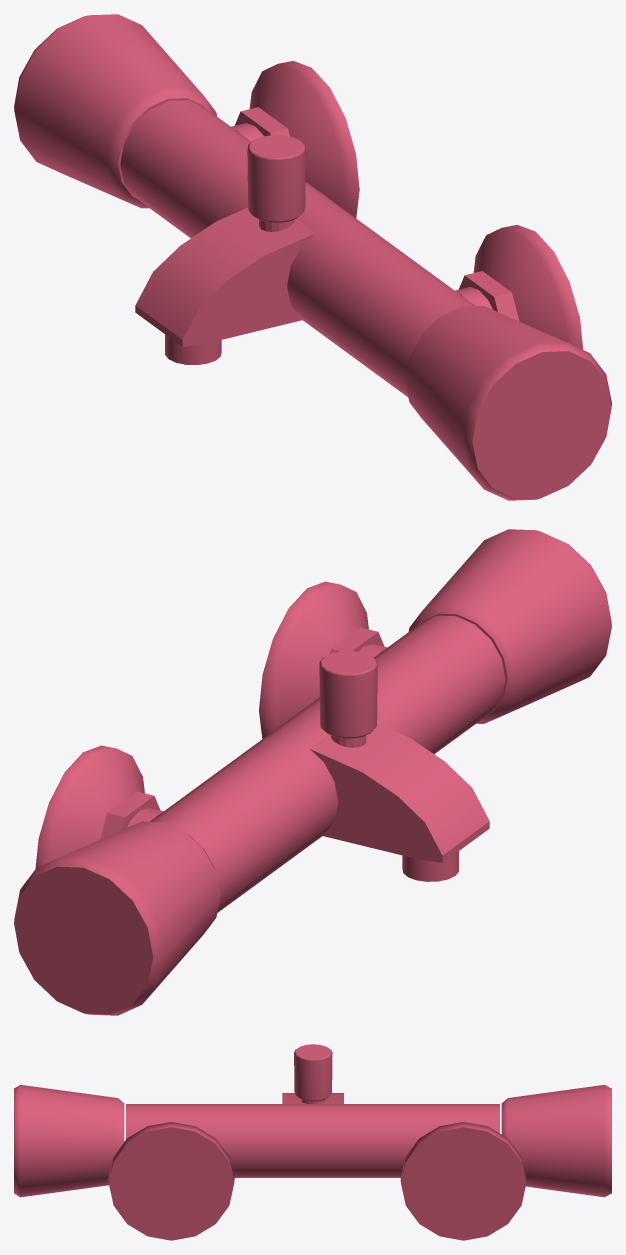
File: Bath_Tap.fbx
3 views of the same model, one above another, from view 1: azimuth 30°, elevation 25°; view 2: azimuth 150°, elevation 25°; view 3: azimuth 270°, elevation 25° (orthographic). The views are drawn at different scales.
Visible parts, largest first — view 1: Bath_Tap; view 2: Bath_Tap; view 3: Bath_Tap.
Boxes of the visible parts, left/top/right/bottom form: Bath_Tap: left=14, top=14, right=611, bottom=500; Bath_Tap: left=14, top=529, right=611, bottom=1015; Bath_Tap: left=14, top=1044, right=611, bottom=1240.
Bounding box in the file's own units: 120 × 92.82 × 356.
